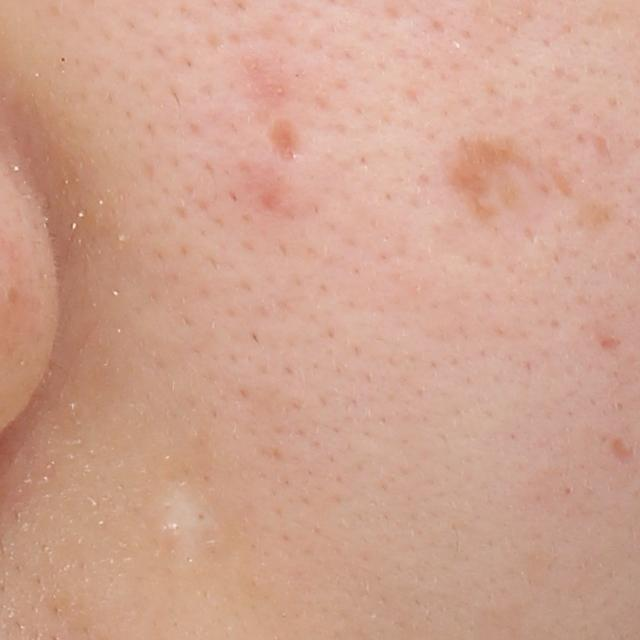atrophic_scar: (447, 127, 536, 228), (261, 118, 306, 165), (604, 435, 640, 469), (592, 129, 615, 163), (601, 336, 624, 352)
